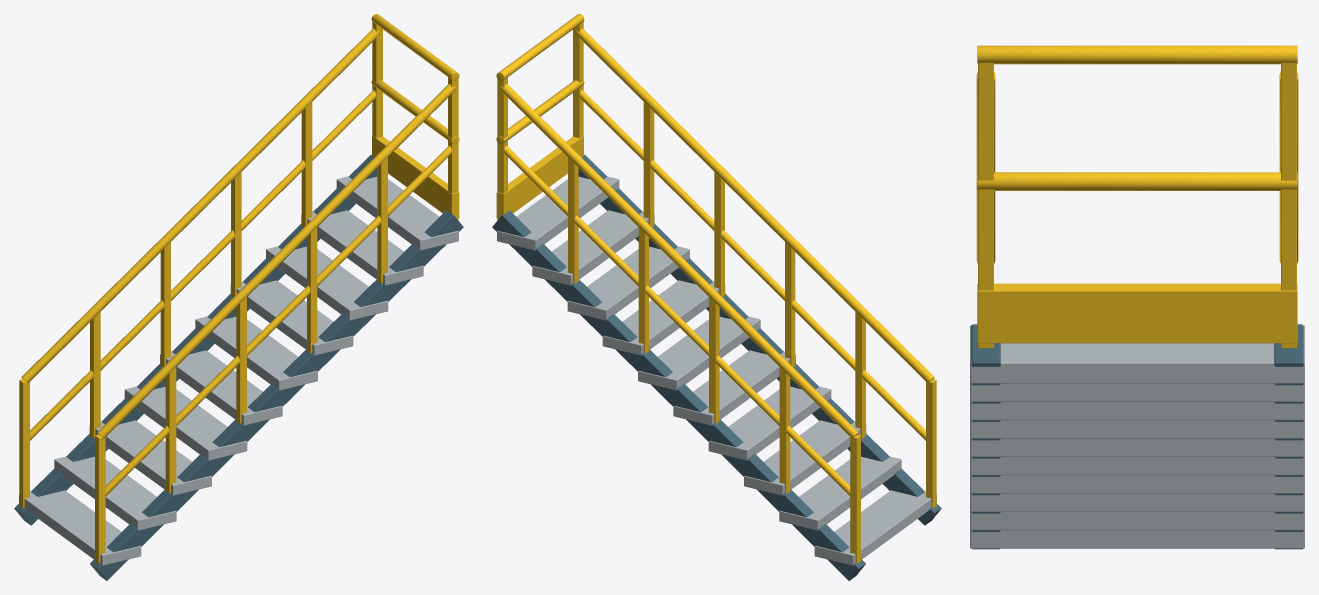
Rendered from industrial_stair_flight.glb.
The picture shows the model from 3 angles, left to right: view 1: azimuth 30°, elevation 25°; view 2: azimuth 150°, elevation 25°; view 3: azimuth 270°, elevation 25°; orthographic projection. The views are drawn at different scales.
Visible parts, largest first — view 1: STAIR_stringer_-0.52, STAIR_handrail_-0.52, STAIR_handrail_0.52, STAIR_stringer_0.52, STAIR_midrail_0.52, STAIR_midrail_-0.52, STAIR_tread_0, STAIR_tread_1, STAIR_tread_3, STAIR_tread_9, STAIR_tread_7, STAIR_tread_5 (+20 smaller); view 2: STAIR_stringer_0.52, STAIR_handrail_0.52, STAIR_handrail_-0.52, STAIR_stringer_-0.52, STAIR_midrail_-0.52, STAIR_midrail_0.52, STAIR_tread_0, STAIR_tread_1, STAIR_tread_3, STAIR_tread_9, STAIR_tread_7, STAIR_tread_5 (+21 smaller); view 3: STAIR_landing_toeboard, STAIR_tread_9, STAIR_landing_rail_3.1, STAIR_tread_1, STAIR_tread_4, STAIR_tread_7, STAIR_tread_0, STAIR_tread_3, STAIR_tread_6, STAIR_tread_2, STAIR_tread_5, STAIR_tread_8 (+9 smaller).
Boxes of the visible parts, x1,y1,x2,y2 form: STAIR_stringer_-0.52: [90, 210, 463, 580]; STAIR_handrail_-0.52: [97, 84, 456, 438]; STAIR_handrail_0.52: [21, 28, 380, 382]; STAIR_stringer_0.52: [14, 154, 377, 525]; STAIR_midrail_0.52: [30, 90, 375, 440]; STAIR_midrail_-0.52: [105, 145, 451, 496]; STAIR_tread_0: [19, 490, 141, 565]; STAIR_tread_1: [54, 456, 176, 530]; STAIR_tread_3: [124, 386, 247, 460]; STAIR_tread_9: [336, 176, 458, 250]; STAIR_tread_7: [266, 246, 388, 320]; STAIR_tread_5: [195, 316, 317, 390]; STAIR_stringer_0.52: [492, 210, 865, 580]; STAIR_handrail_0.52: [499, 84, 858, 438]; STAIR_handrail_-0.52: [575, 28, 934, 382]; STAIR_stringer_-0.52: [578, 154, 941, 525]; STAIR_midrail_-0.52: [580, 90, 925, 440]; STAIR_midrail_0.52: [504, 145, 850, 496]; STAIR_tread_0: [814, 490, 936, 565]; STAIR_tread_1: [779, 456, 901, 530]; STAIR_tread_3: [708, 386, 831, 460]; STAIR_tread_9: [497, 176, 619, 250]; STAIR_tread_7: [567, 246, 689, 320]; STAIR_tread_5: [638, 316, 760, 390]; STAIR_landing_toeboard: [977, 283, 1297, 343]; STAIR_tread_9: [970, 325, 1304, 383]; STAIR_landing_rail_3.1: [977, 45, 1297, 64]; STAIR_tread_1: [970, 511, 1304, 530]; STAIR_tread_4: [970, 456, 1304, 475]; STAIR_tread_7: [970, 401, 1304, 420]; STAIR_tread_0: [970, 530, 1304, 548]; STAIR_tread_3: [970, 475, 1304, 493]; STAIR_tread_6: [970, 420, 1304, 438]; STAIR_tread_2: [970, 493, 1304, 511]; STAIR_tread_5: [970, 438, 1304, 456]; STAIR_tread_8: [970, 383, 1304, 401].
Size of the model in its own units: 2.91 by 3.2 by 1.15.
